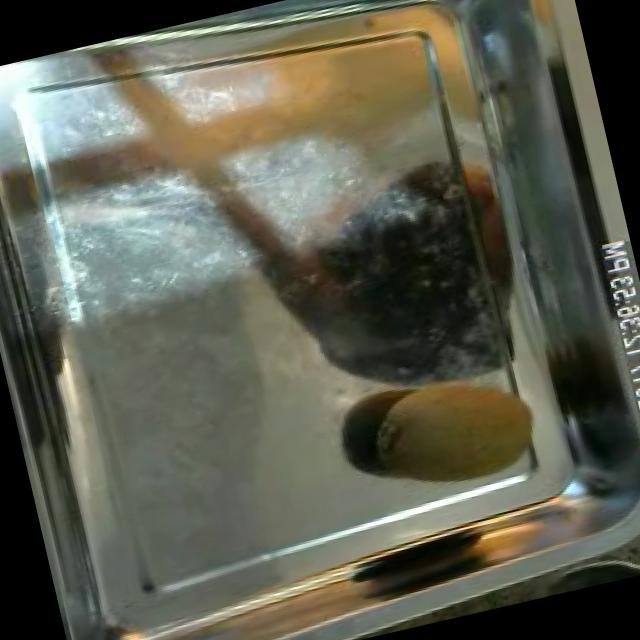Fruit: (342, 338, 552, 529)
